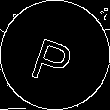P_N: (29, 25, 81, 85)
